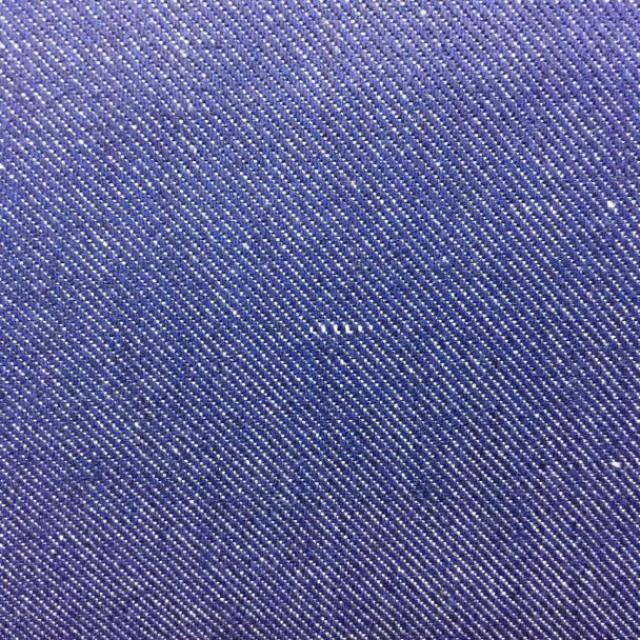Knot: (309, 321, 375, 337)
